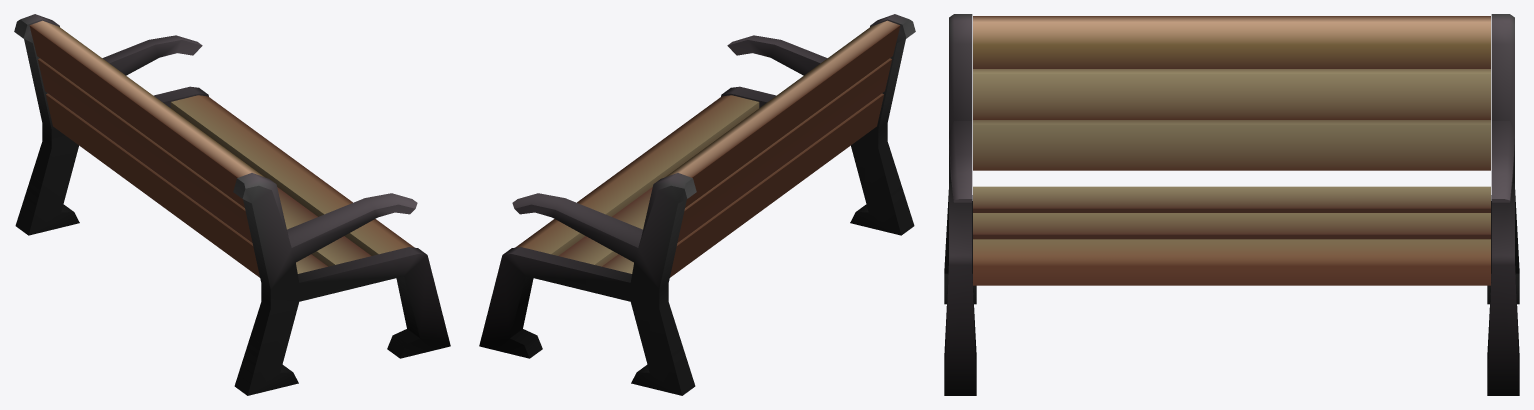
Rendered from Bench.fbx.
3 views of the same model, side by side, from view 1: azimuth 30°, elevation 25°; view 2: azimuth 150°, elevation 25°; view 3: azimuth 270°, elevation 25° (orthographic). The views are drawn at different scales.
Visible parts, largest first — view 1: Cube.004; view 2: Cube.004; view 3: Cube.004.
Part boxes in pixels (bbox=[...]): Cube.004: bbox=[14, 14, 450, 395]; Cube.004: bbox=[479, 14, 915, 395]; Cube.004: bbox=[944, 14, 1519, 395].
Size of the model in its own units: 169 by 165 by 328.
